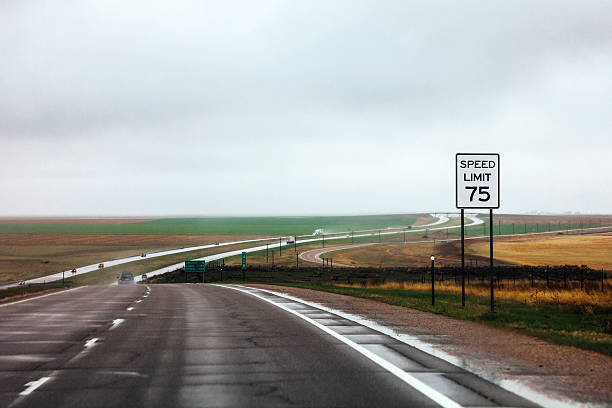SpeedLimitSign: (454, 150, 500, 207)
